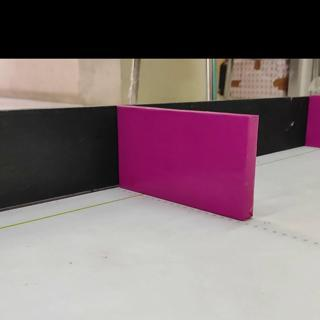xparking: (119, 116, 254, 223)
